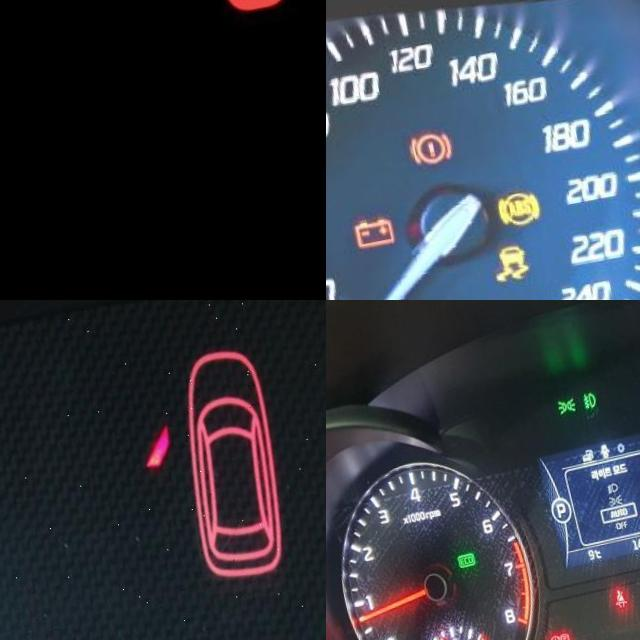FrontFogLight: (571, 405, 587, 425)
SideLamp: (546, 410, 567, 429)
